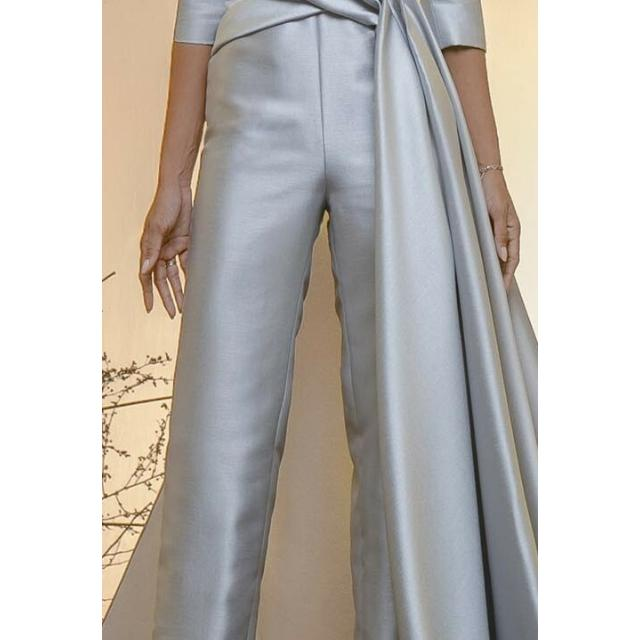silk: (130, 0, 538, 640)
